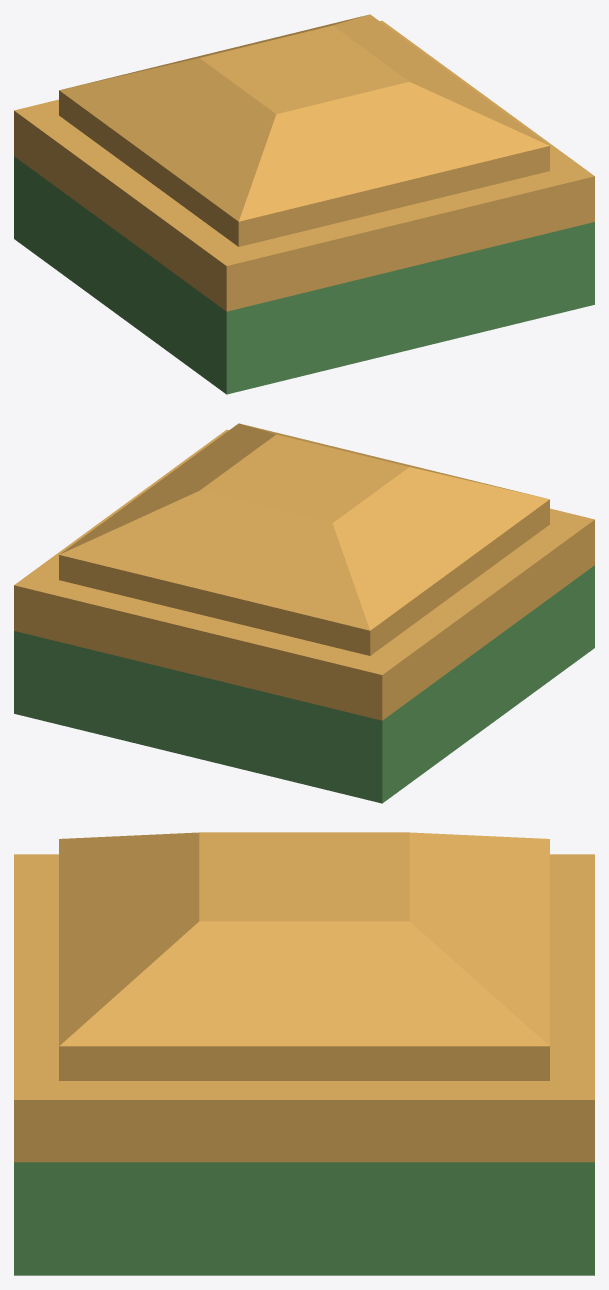
File: SkyScraper_Top_03_green.fbx
The picture shows the model from 3 angles, top to bottom: view 1: azimuth 30°, elevation 25°; view 2: azimuth 150°, elevation 25°; view 3: azimuth 270°, elevation 25°; orthographic projection. The views are drawn at different scales.
Parts seen in each view (by area): view 1: SkyScraper1_Top_03; view 2: SkyScraper1_Top_03; view 3: SkyScraper1_Top_03.
Boxes of the visible parts, x1,y1,x2,y2 form: SkyScraper1_Top_03: [14, 14, 594, 394]; SkyScraper1_Top_03: [14, 423, 594, 803]; SkyScraper1_Top_03: [14, 832, 594, 1275].
Size of the model in its own units: 96 by 50.3 by 96.
